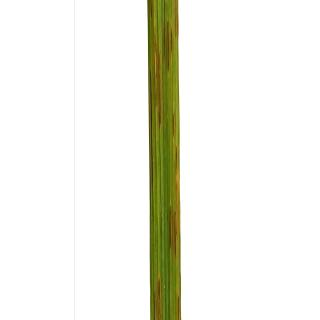Bercak-Cokelat-Sempit: (145, 0, 156, 192), (165, 204, 183, 264), (147, 272, 169, 320), (160, 17, 174, 77), (172, 145, 181, 200), (168, 109, 178, 143), (174, 285, 181, 320)
